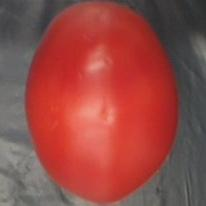unripe: (21, 1, 180, 206)
